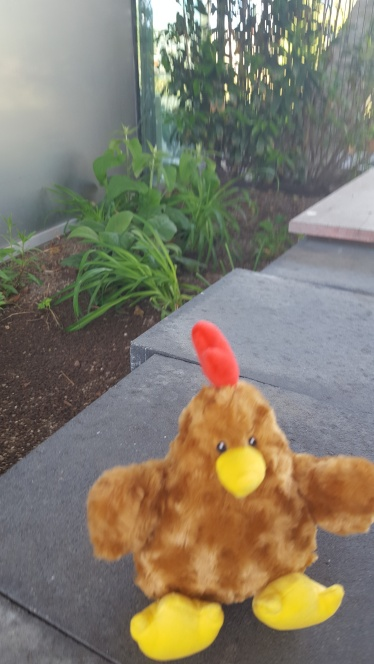chicken_front: (85, 319, 374, 661)
